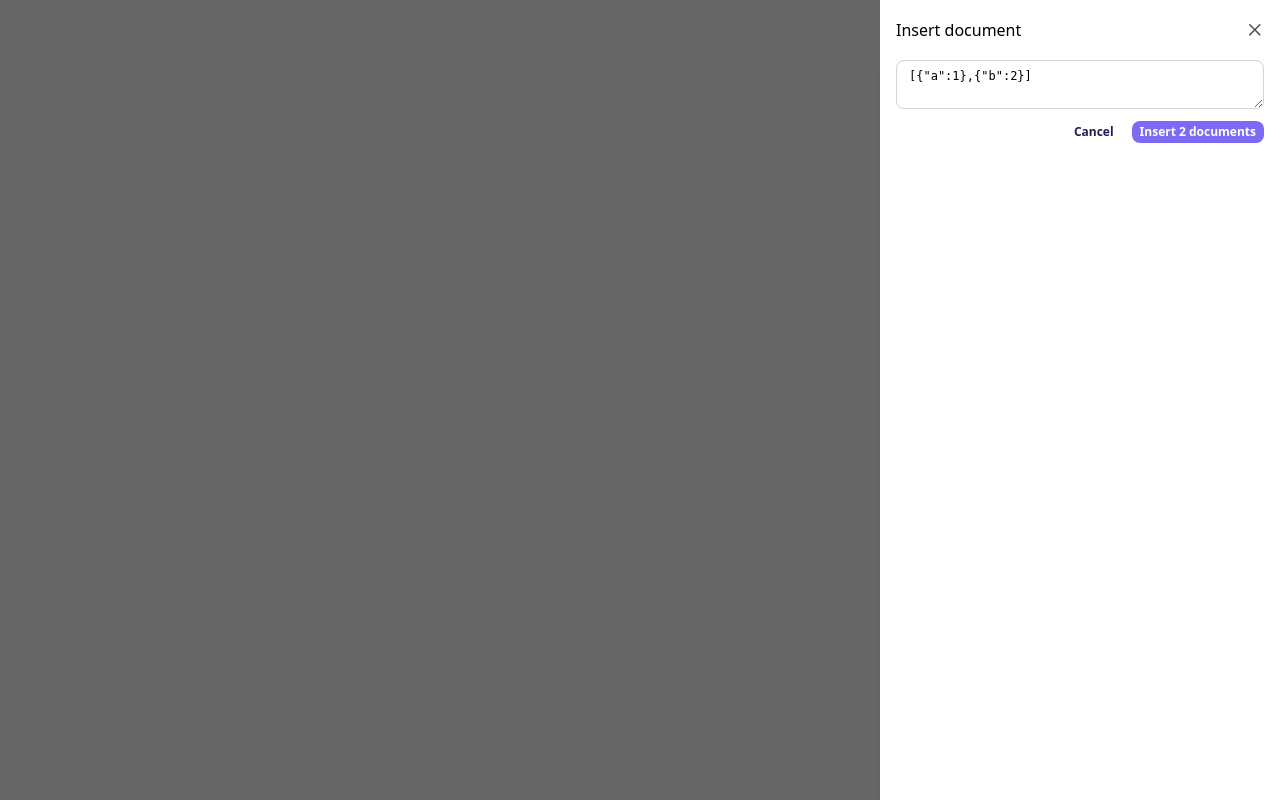
Test: InsertDrawer — array insert routes to doc:insertMany (T2.7) › on a total failure (no insertedCount in details), keeps the existing single-doc behavior: banner shown, no refresh, drawer stays open
Click the button "Insert 2 documents". click: (1198, 132)
box: [1132, 121, 1264, 143]
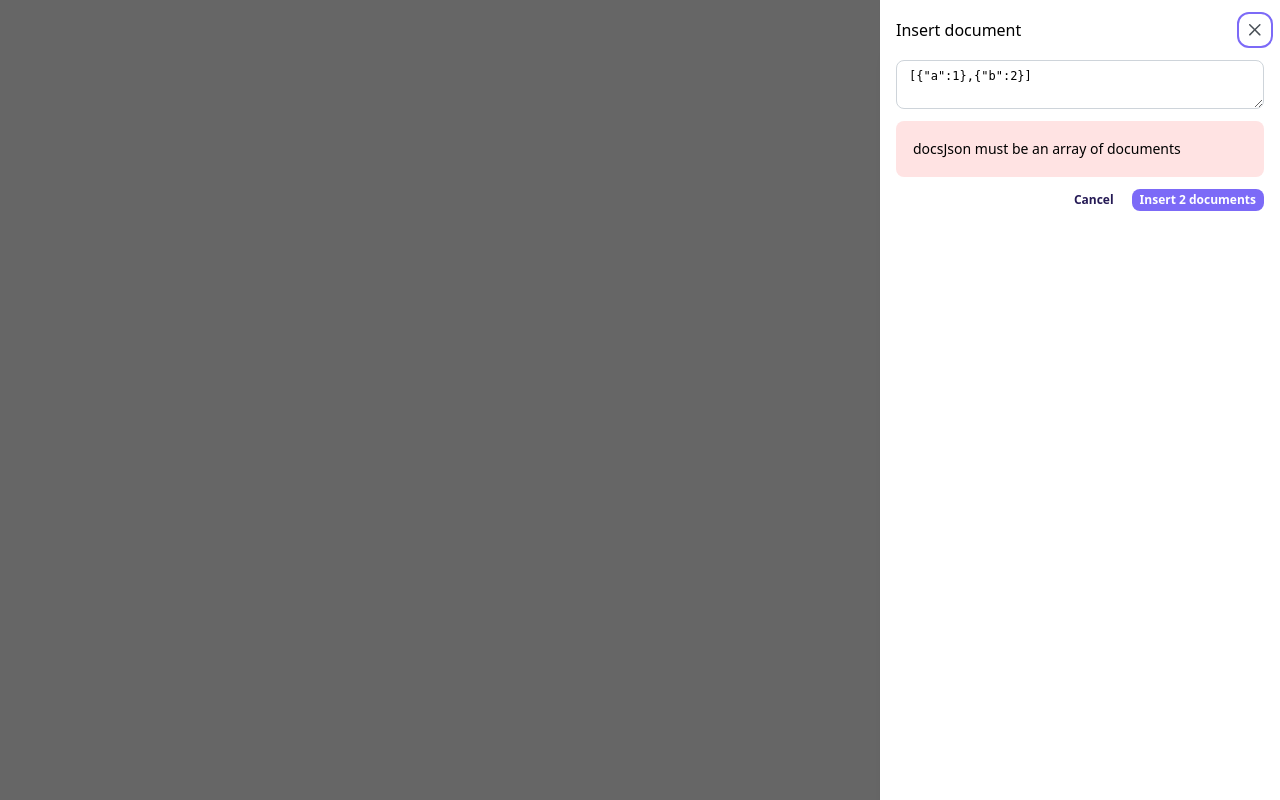
Check: the message reads "docsJson must be an array of documents", box [913, 139, 1181, 158]
